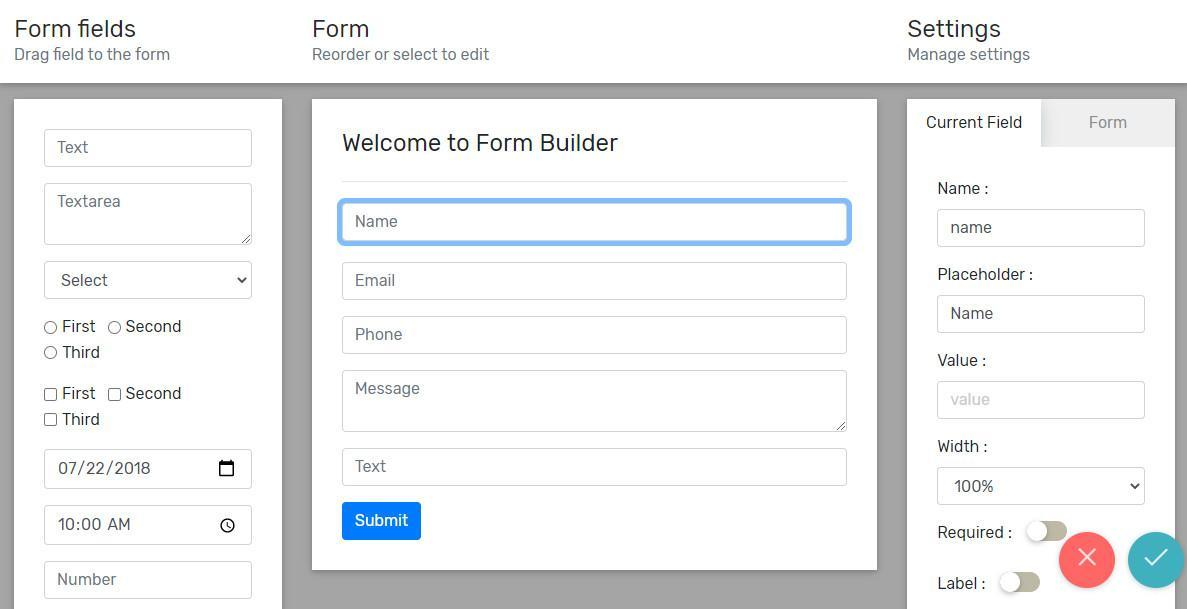button: (341, 501, 423, 541)
checkbox: (109, 389, 122, 402), (45, 389, 58, 402), (45, 413, 58, 426)
dropdown: (46, 261, 252, 301), (937, 468, 1146, 507)
input: (343, 202, 849, 242), (343, 317, 849, 355), (344, 449, 847, 487), (343, 264, 848, 300), (46, 449, 253, 490), (938, 209, 1147, 248), (46, 561, 254, 600), (45, 130, 253, 168), (45, 507, 253, 544), (937, 382, 1145, 419), (937, 296, 1146, 332)
label: (934, 266, 1038, 285), (934, 525, 1015, 543), (936, 348, 992, 370), (124, 386, 184, 405), (932, 575, 990, 594), (936, 179, 992, 197), (939, 436, 989, 456), (127, 319, 182, 337), (62, 410, 107, 427), (63, 346, 103, 365), (59, 319, 97, 335), (63, 384, 97, 401)
radio: (106, 318, 124, 338), (42, 342, 60, 361), (41, 319, 58, 338)
switch: (998, 570, 1042, 596), (1025, 520, 1069, 542)
